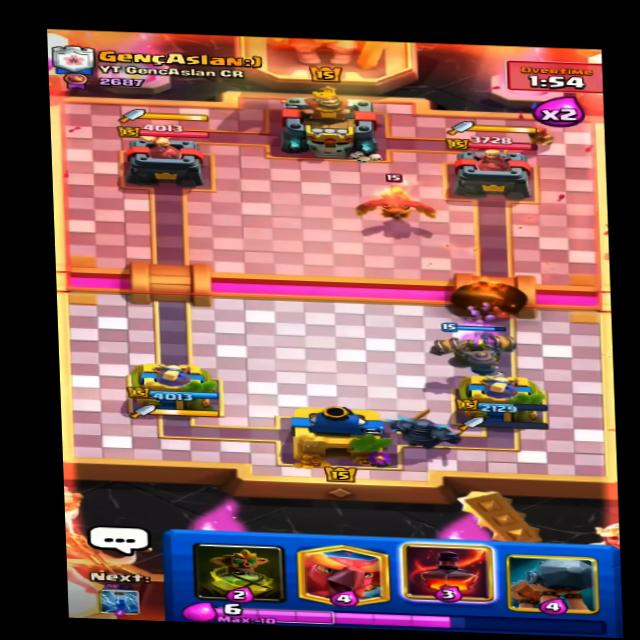phoenix: (340, 174, 454, 229)
wizard: (517, 121, 561, 148)
